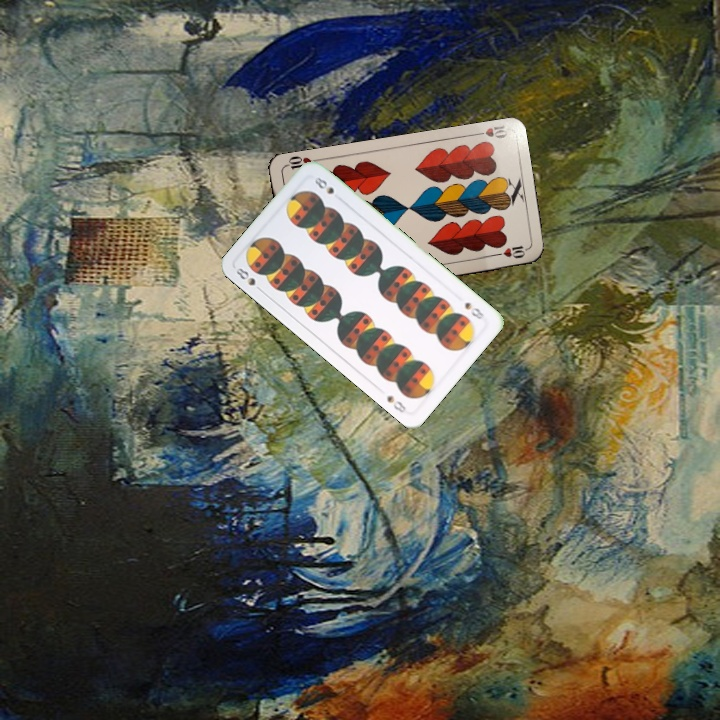H10: (469, 121, 510, 142)
S8: (232, 264, 266, 295), (460, 298, 489, 322)
